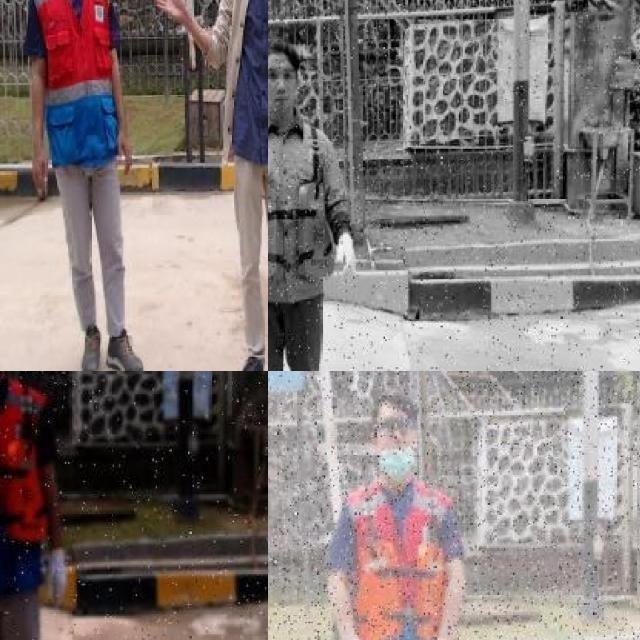apron: (332, 233, 360, 288), (45, 549, 68, 611)
